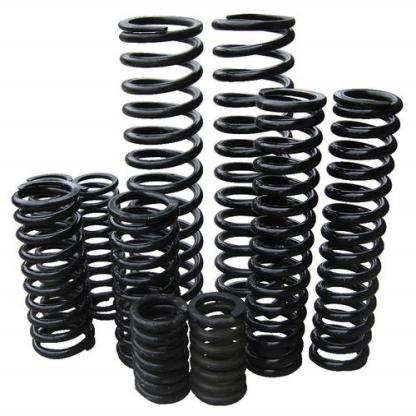FOD: (309, 85, 405, 372), (242, 85, 328, 380), (12, 177, 99, 362), (71, 168, 121, 320), (188, 290, 250, 410), (127, 293, 190, 406)
